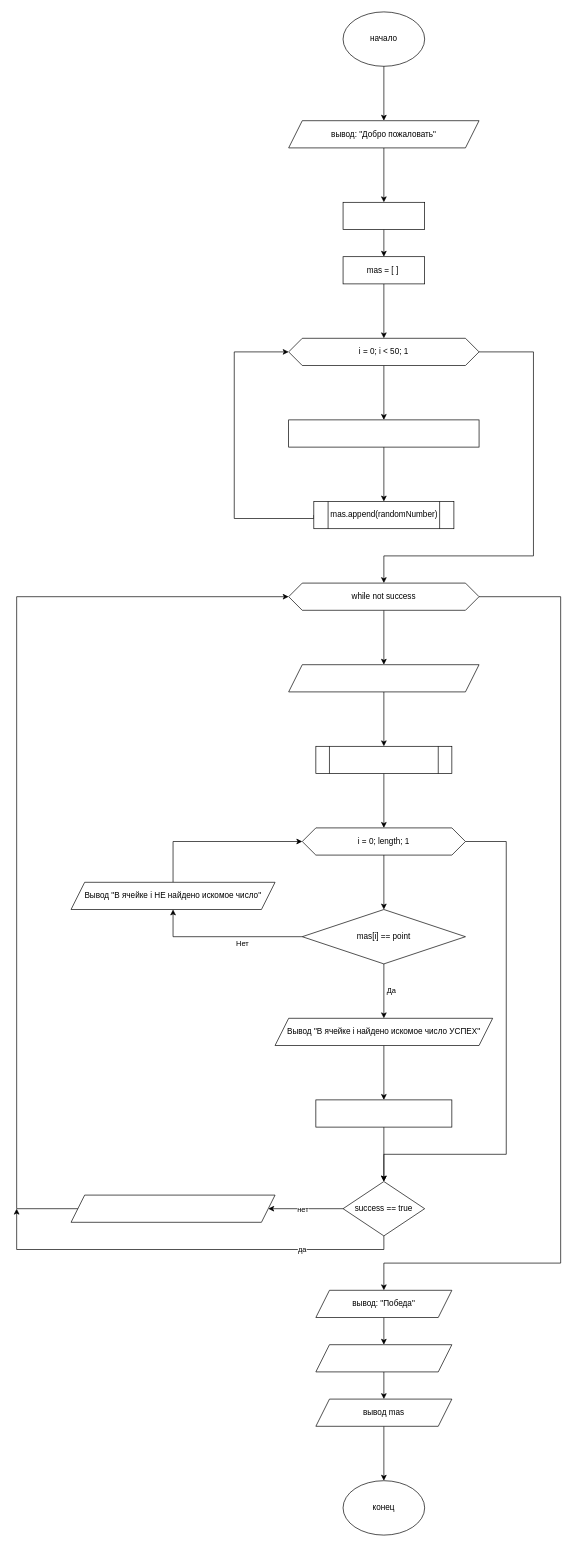
This 578x1547 diagram has some shape labels left out. Each missing label, with the centre of its shape:
length = len(mas): point (383, 760)
randomNumber = random.randint(0, 100): point (383, 433)
success = false: point (383, 216)
success = True: point (383, 1113)
ввод point: point (383, 678)
вывод: "Были загаданы следующие числа:": point (383, 1358)
вывод: "Попробуйте ещё раз": point (172, 1208)
